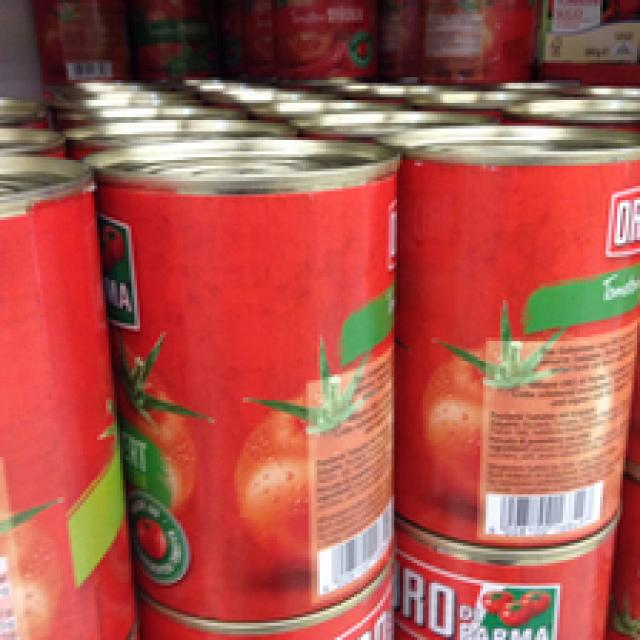groceries: (86, 134, 394, 620), (389, 120, 637, 549)
